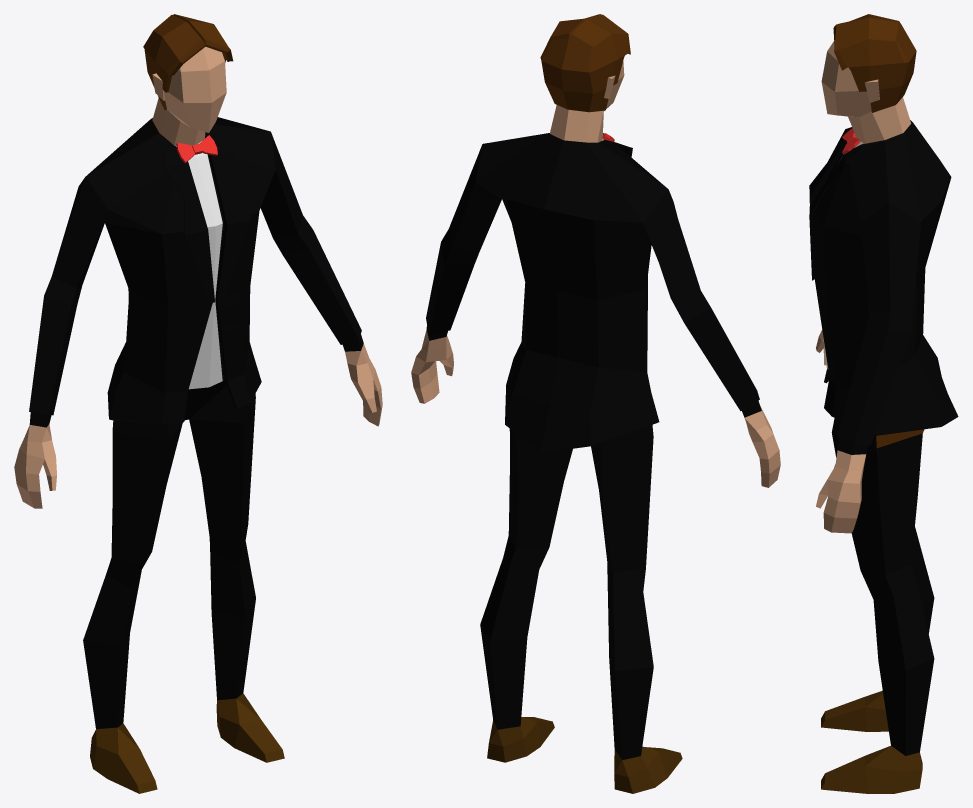
Rendered from Men.fbx.
3 views of the same model, side by side, from view 1: azimuth 30°, elevation 25°; view 2: azimuth 150°, elevation 25°; view 3: azimuth 270°, elevation 25° (orthographic).
Visible parts, largest first — view 1: MEN; view 2: MEN; view 3: MEN.
Part boxes in pixels (x1,y1,x2,y2): MEN: (14,14,382,793); MEN: (411,14,780,793); MEN: (809,14,958,793).
Bounding box in the file's own units: 457 × 905 × 166.
